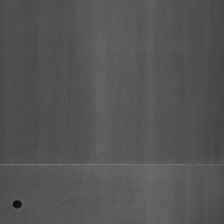welding_line: (0, 158, 224, 170), (10, 197, 25, 211)
